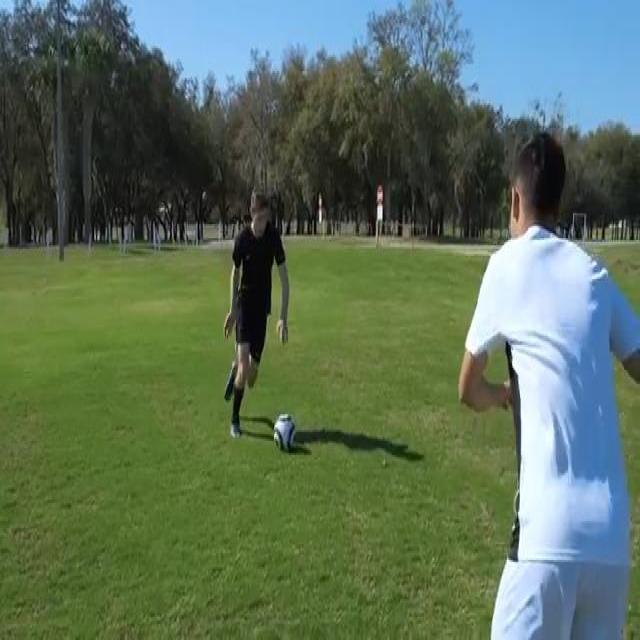Soccer Ball: (274, 412, 296, 453)
